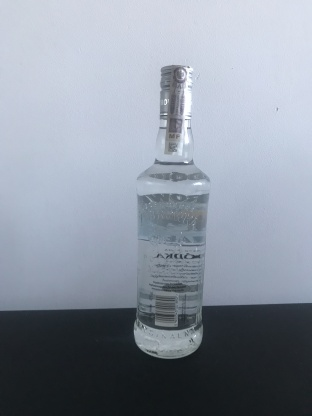nakretka: (156, 60, 195, 123)
